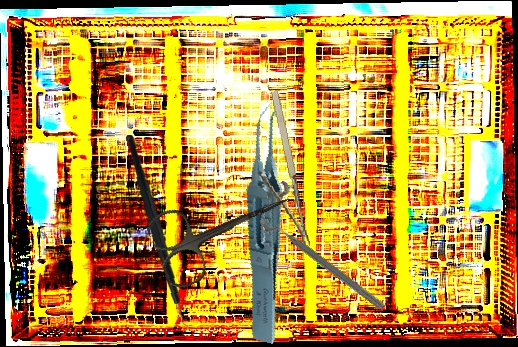Chopper: (111, 134, 214, 336)
Fixation Ring: (257, 203, 394, 315)
Iris Scissors: (142, 164, 306, 293)
Needle Holder: (245, 89, 311, 254)
Tissue Forceps: (203, 98, 336, 345)
